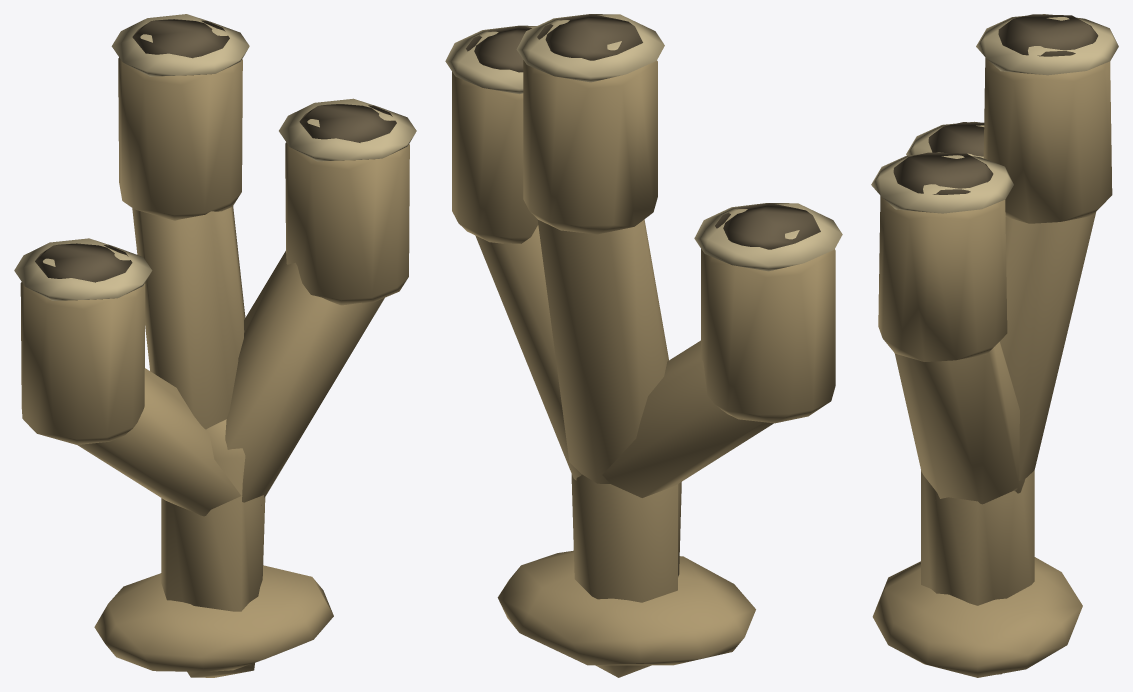
Rendered from org_vauxia.glb.
3 renders of one model, left to right at view 1: azimuth 30°, elevation 25°; view 2: azimuth 150°, elevation 25°; view 3: azimuth 270°, elevation 25°, orthographic. The views are drawn at different scales.
Visible parts, largest first — view 1: Body; view 2: Body; view 3: Body.
Part boxes in pixels (x1=…): Body: x1=14, y1=14, x2=416, y2=677; Body: x1=445, y1=14, x2=842, y2=677; Body: x1=871, y1=14, x2=1118, y2=677.
Size of the model in its own units: 0.278 by 0.4505 by 0.1564.
